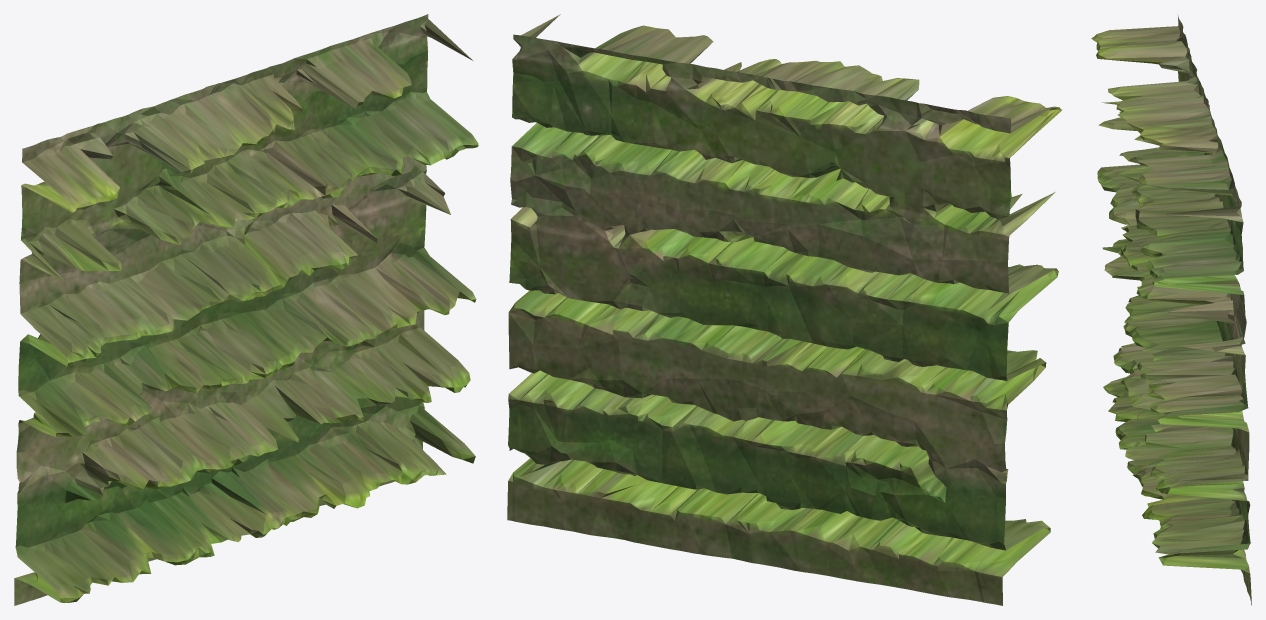
The model's file is map_190_40.obj.
3 renders of one model, left to right at view 1: azimuth 30°, elevation 25°; view 2: azimuth 150°, elevation 25°; view 3: azimuth 270°, elevation 25°, orthographic. The views are drawn at different scales.
Parts seen in each view (by area): view 1: grp1; view 2: grp1; view 3: grp1.
Part boxes in pixels (x1,y1,x2,y2): grp1: (14, 14, 478, 605); grp1: (507, 14, 1062, 605); grp1: (1091, 14, 1251, 605).
Size of the model in its own units: 10 by 10 by 3.61.
1 material, 1 textured.
